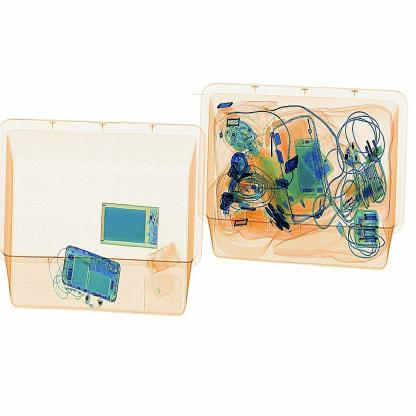knife: (280, 154, 310, 182)
